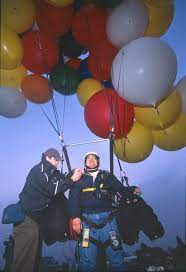Balloon: (110, 36, 181, 106), (84, 89, 130, 138), (107, 1, 150, 43), (18, 31, 57, 73), (72, 6, 105, 43), (21, 74, 52, 102), (51, 64, 78, 94), (1, 87, 27, 118)
